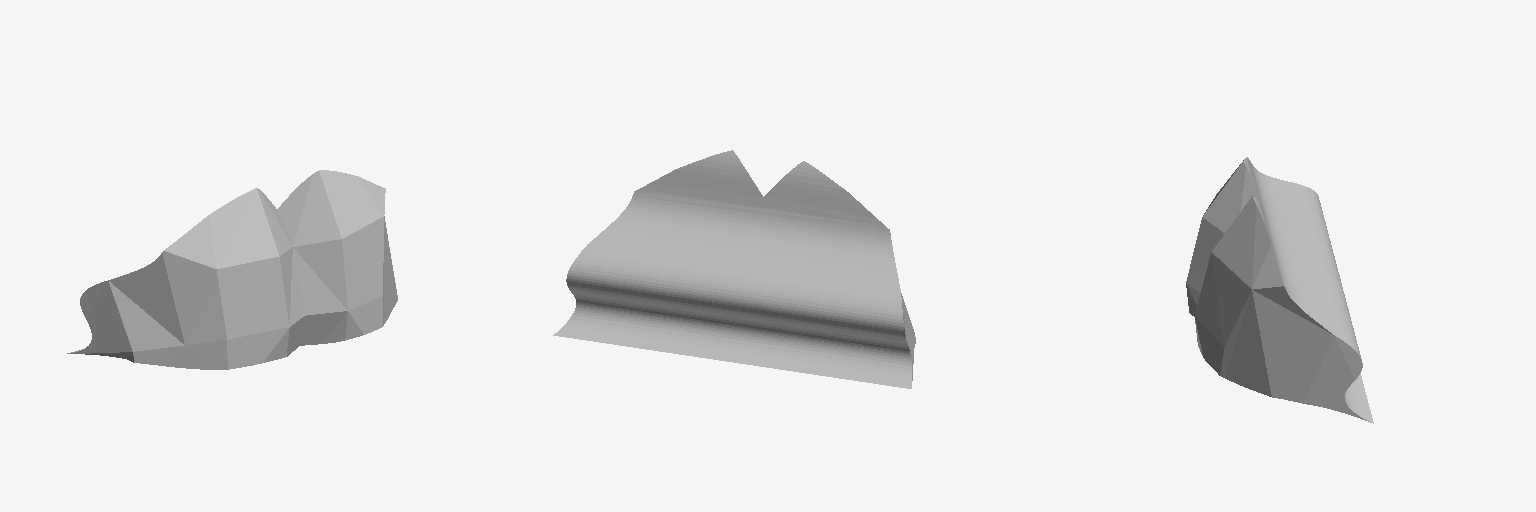
Rendered from OccipitalLob.obj.
The picture shows the model from 3 angles: view 1: azimuth 30°, elevation 25°; view 2: azimuth 150°, elevation 25°; view 3: azimuth 270°, elevation 25°; orthographic projection.
Visible parts, largest first — view 1: Assem1.003; view 2: Assem1.003; view 3: Assem1.003.
Part boxes in pixels (left/top/right/bottom): Assem1.003: left=67, top=170, right=397, bottom=369; Assem1.003: left=553, top=150, right=915, bottom=388; Assem1.003: left=1186, top=157, right=1373, bottom=423.
Size of the model in its own units: 5 by 2.45 by 2.42.